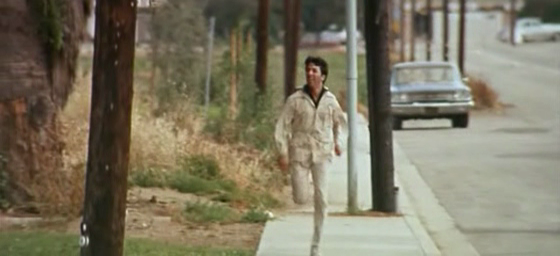face: (305, 61, 322, 87)
ls: (1, 1, 560, 256)
person: (273, 55, 348, 255)
